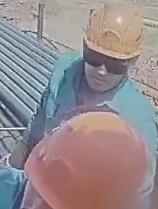goggles: (82, 48, 131, 75)
helmet: (22, 112, 149, 209), (82, 0, 143, 60)
vest: (23, 52, 157, 157)
